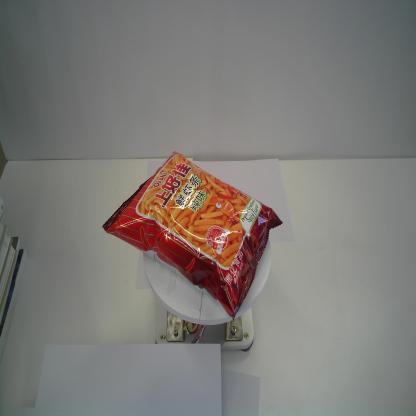Puffed Food: (101, 149, 284, 323)
